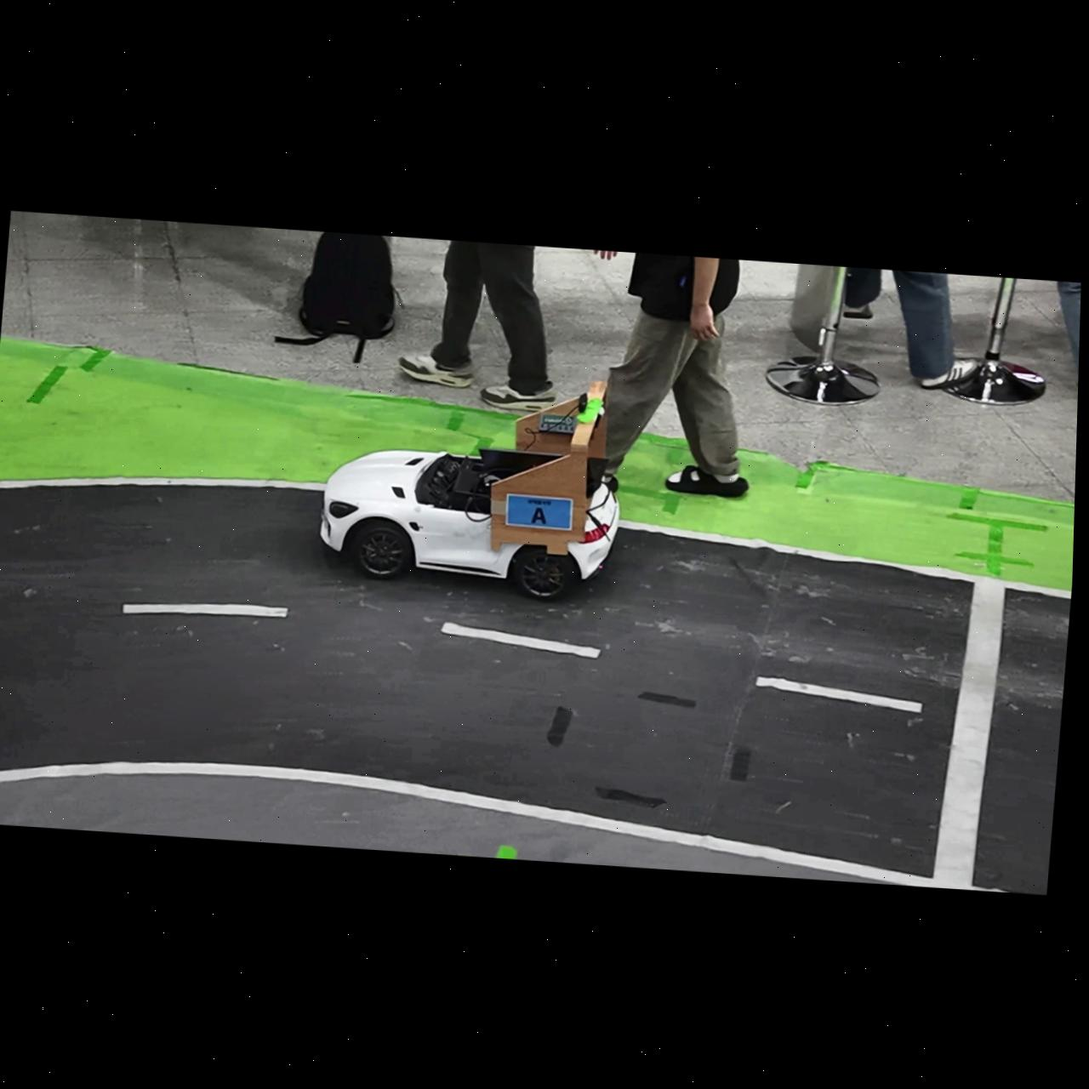broken_line: (755, 676, 922, 712), (440, 622, 600, 657), (123, 603, 287, 617)
